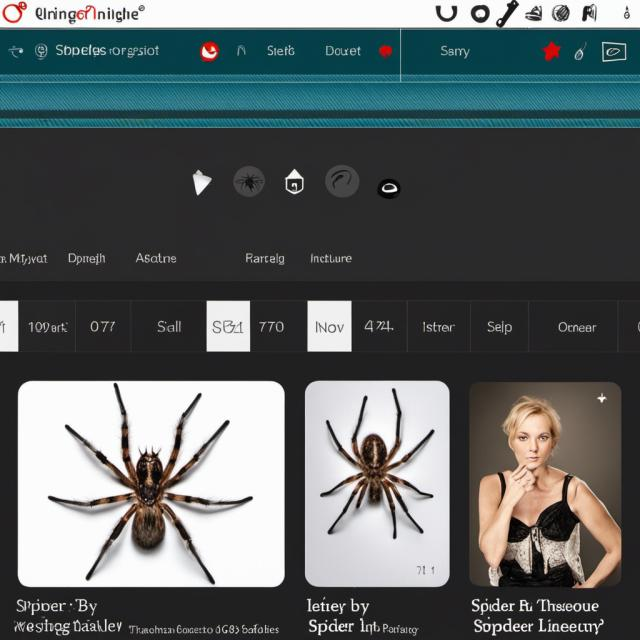spider: (38, 386, 260, 585), (316, 389, 437, 552)
